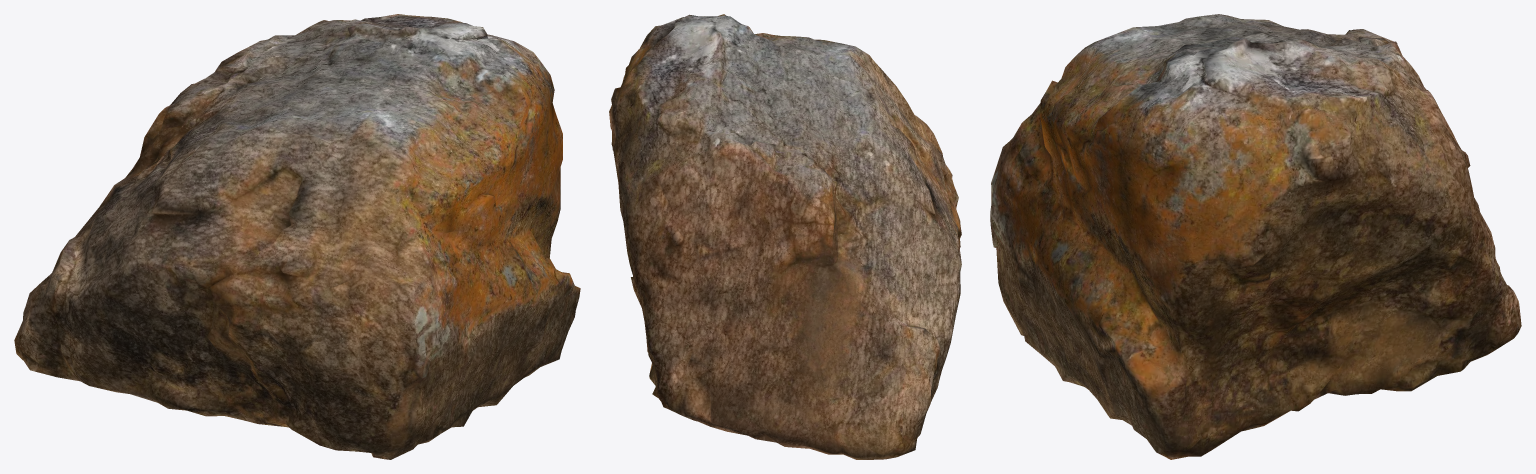
File: boulder-c.glb
3 views of the same model, side by side, from view 1: azimuth 30°, elevation 25°; view 2: azimuth 150°, elevation 25°; view 3: azimuth 270°, elevation 25° (orthographic). The views are drawn at different scales.
Parts seen in each view (by area): view 1: boulder_04; view 2: boulder_04; view 3: boulder_04.
Part boxes in pixels (<box>): boulder_04: <box>14,14,580,459</box>; boulder_04: <box>609,14,961,459</box>; boulder_04: <box>990,14,1521,459</box>.
Size of the model in its own units: 2.52 by 1.9 by 2.48.
1 material, 1 textured.
